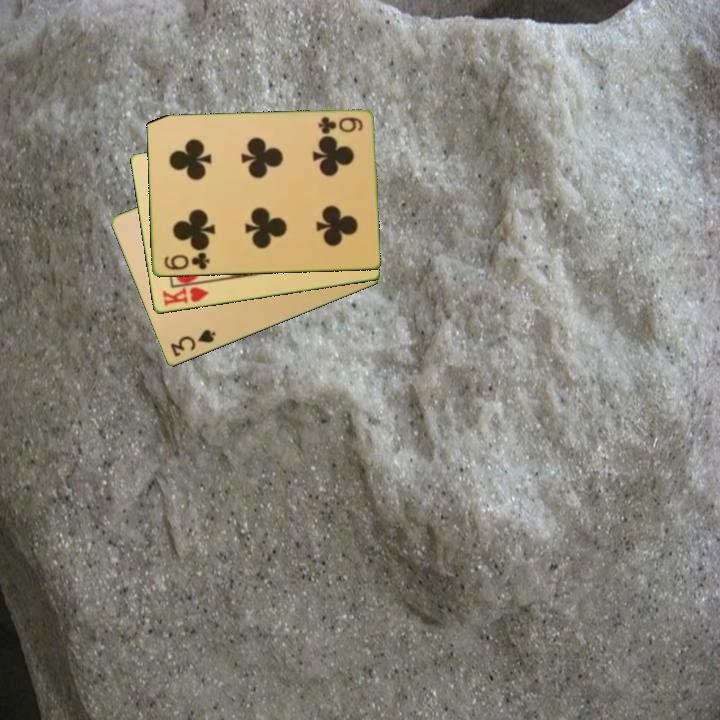3s: (166, 326, 218, 360)
6c: (160, 249, 213, 274), (315, 114, 366, 136)
Kh: (159, 279, 212, 309)
